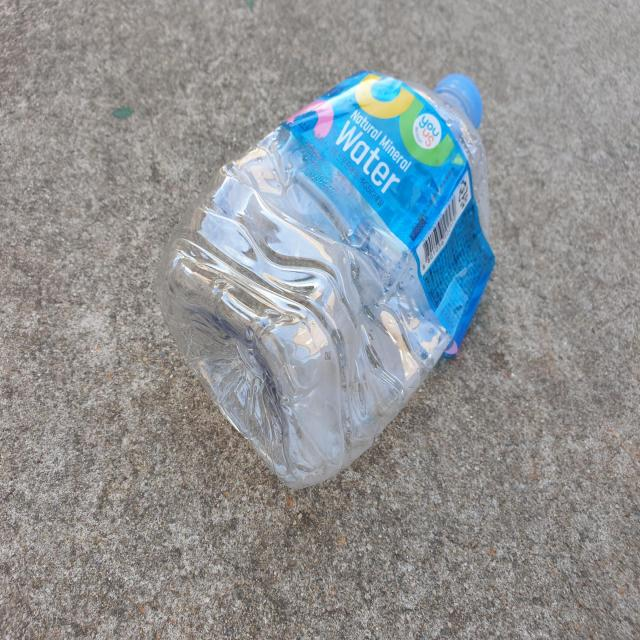plastic: (155, 70, 495, 488)
